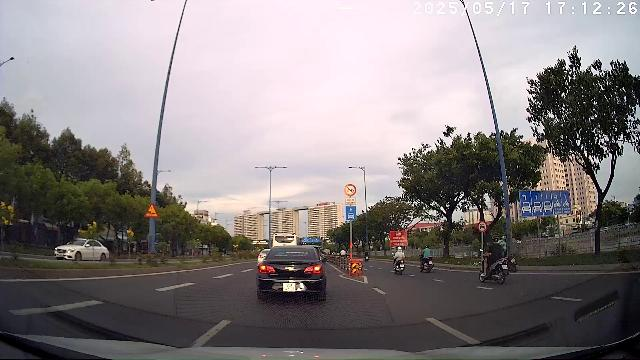103a-cam-oto: (477, 221, 488, 231)
